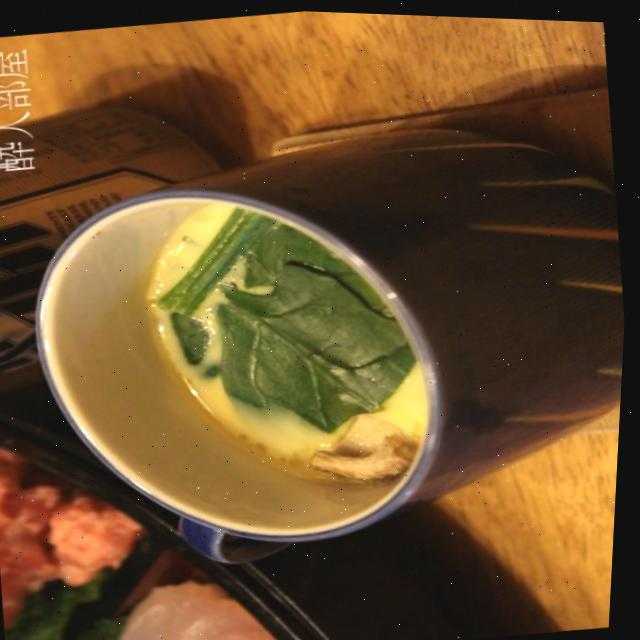鸡蛋料理: (0, 122, 635, 583)
